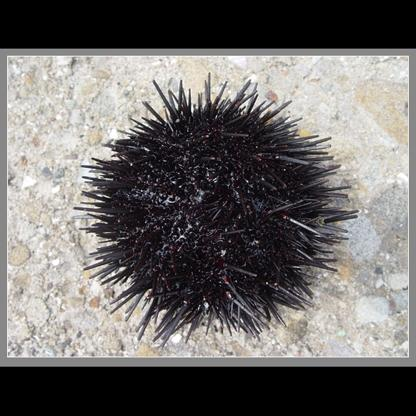urchin: (74, 80, 356, 338)
